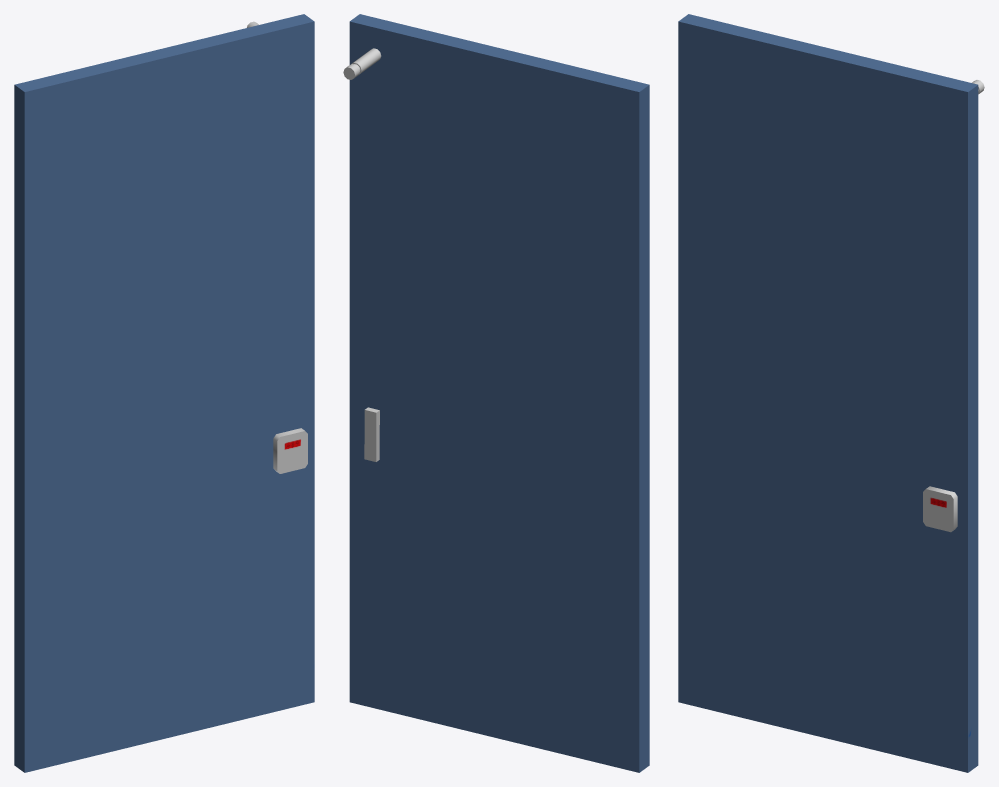
Rendered from PartitionDoorOpen.fbx.
3 views of the same model, side by side, from view 1: azimuth 30°, elevation 25°; view 2: azimuth 150°, elevation 25°; view 3: azimuth 330°, elevation 25° (orthographic).
Parts seen in each view (by area): view 1: Box007; view 2: Box007; view 3: Box007.
Part boxes in pixels (x1,y1,x2,y2): Box007: (14,14,314,772); Box007: (343,14,649,772); Box007: (678,14,984,772).
Size of the model in its own units: 4900 by 11000 by 1181.
